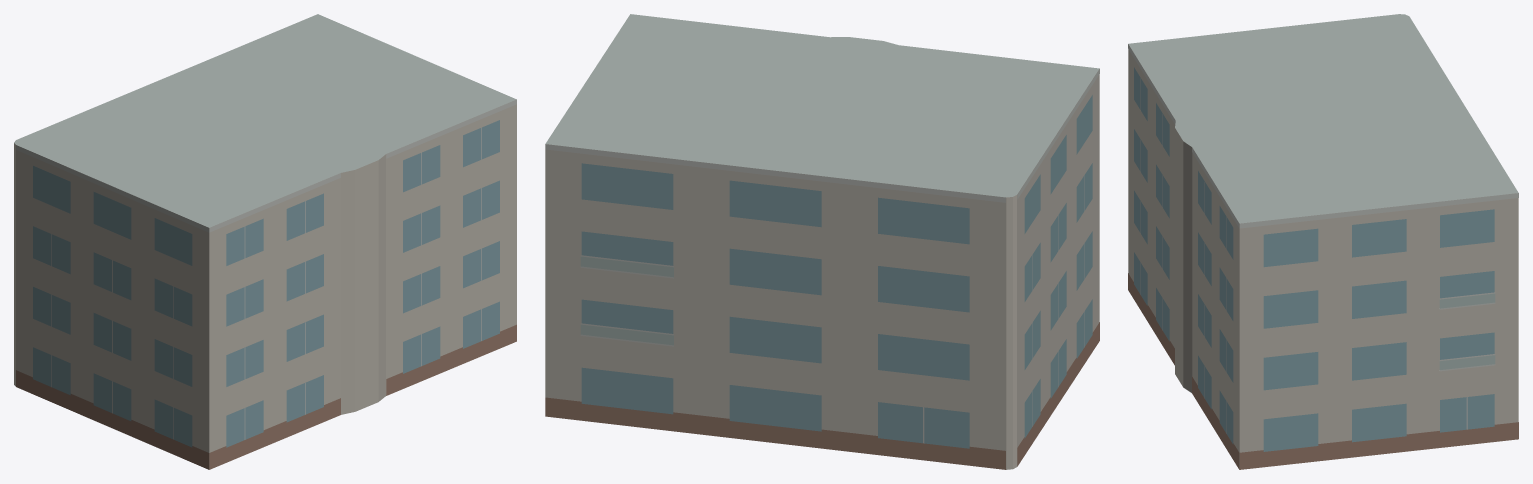
The model's file is survey-upis-32564273.glb.
3 renders of one model, left to right at view 1: azimuth 30°, elevation 25°; view 2: azimuth 150°, elevation 25°; view 3: azimuth 270°, elevation 25°, orthographic. The views are drawn at different scales.
Parts seen in each view (by area): view 1: survey-upis-32564273.tmp; view 2: survey-upis-32564273.tmp; view 3: survey-upis-32564273.tmp.
Part boxes in pixels (box(x1,y1,x2,y2)): survey-upis-32564273.tmp: box(14, 14, 516, 469); survey-upis-32564273.tmp: box(545, 14, 1099, 469); survey-upis-32564273.tmp: box(1128, 14, 1518, 469).
Bounding box in the file's own units: 22.28 × 12.2 × 17.55.
